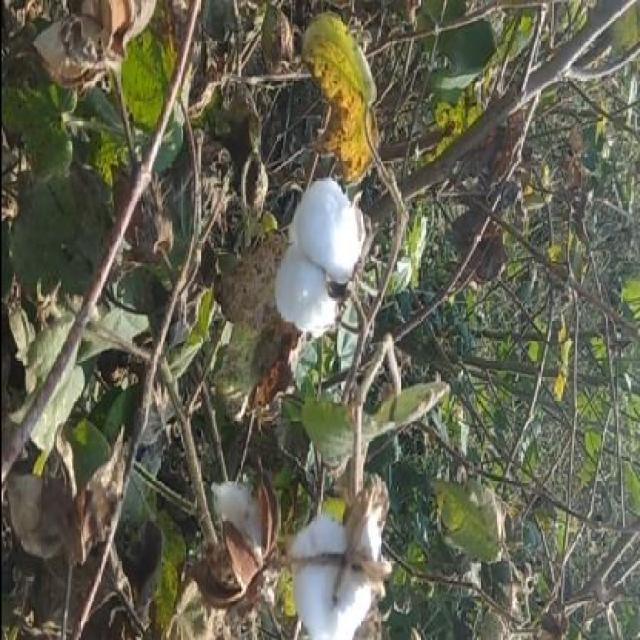cotton_ready: (282, 151, 371, 369), (271, 476, 387, 639)
